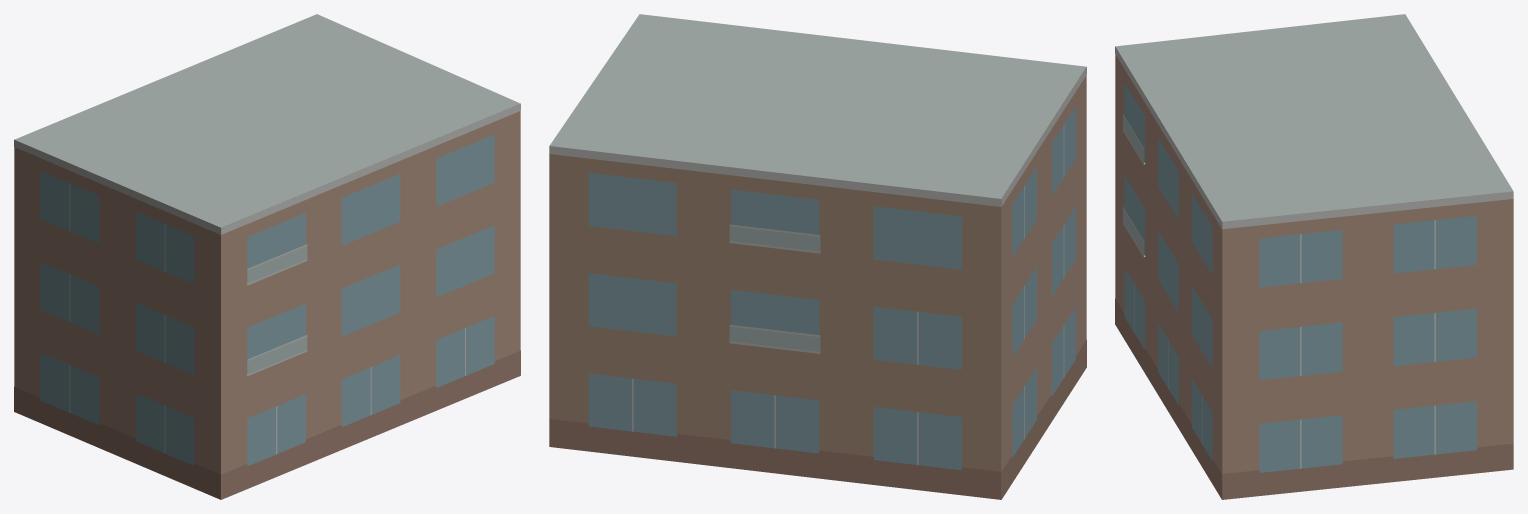
Rendered from survey-upis-33032155.glb.
The picture shows the model from 3 angles, left to right: view 1: azimuth 30°, elevation 25°; view 2: azimuth 150°, elevation 25°; view 3: azimuth 270°, elevation 25°; orthographic projection. The views are drawn at different scales.
Parts seen in each view (by area): view 1: survey-upis-33032155.tmp; view 2: survey-upis-33032155.tmp; view 3: survey-upis-33032155.tmp.
Boxes of the visible parts, box(x1,y1,x2,y2) form: survey-upis-33032155.tmp: box(14, 14, 520, 499); survey-upis-33032155.tmp: box(549, 14, 1086, 499); survey-upis-33032155.tmp: box(1115, 14, 1513, 499).
Bounding box in the file's own units: 14.68 × 9.15 × 11.89.
